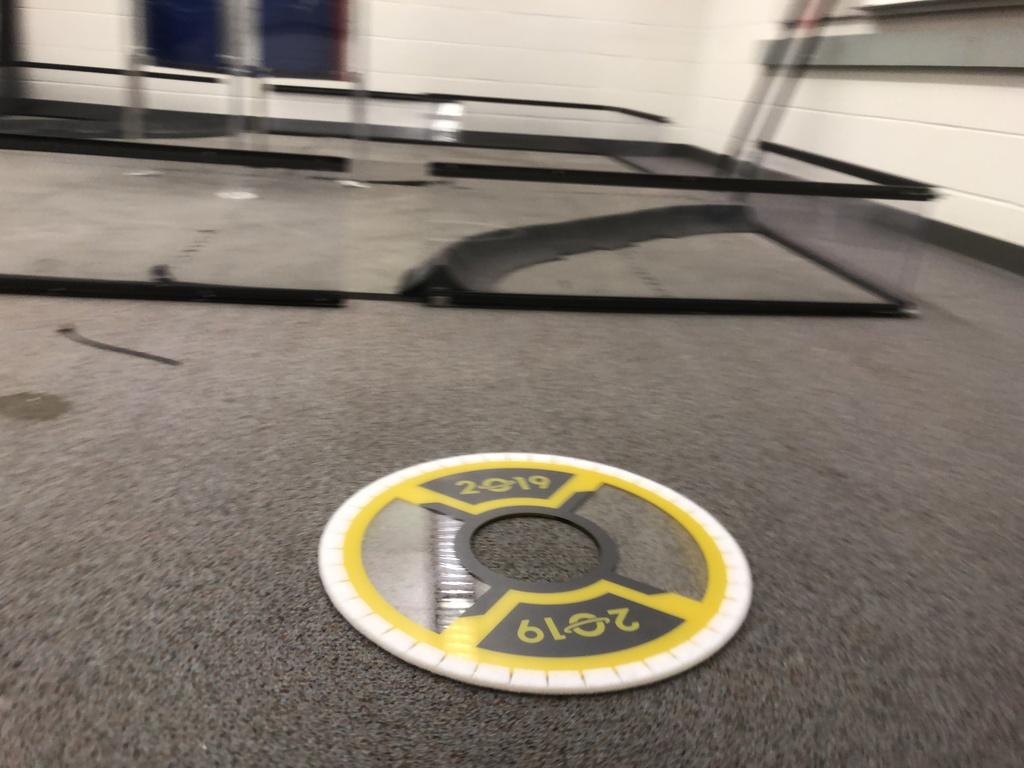hatch_panel: (305, 438, 779, 705)
